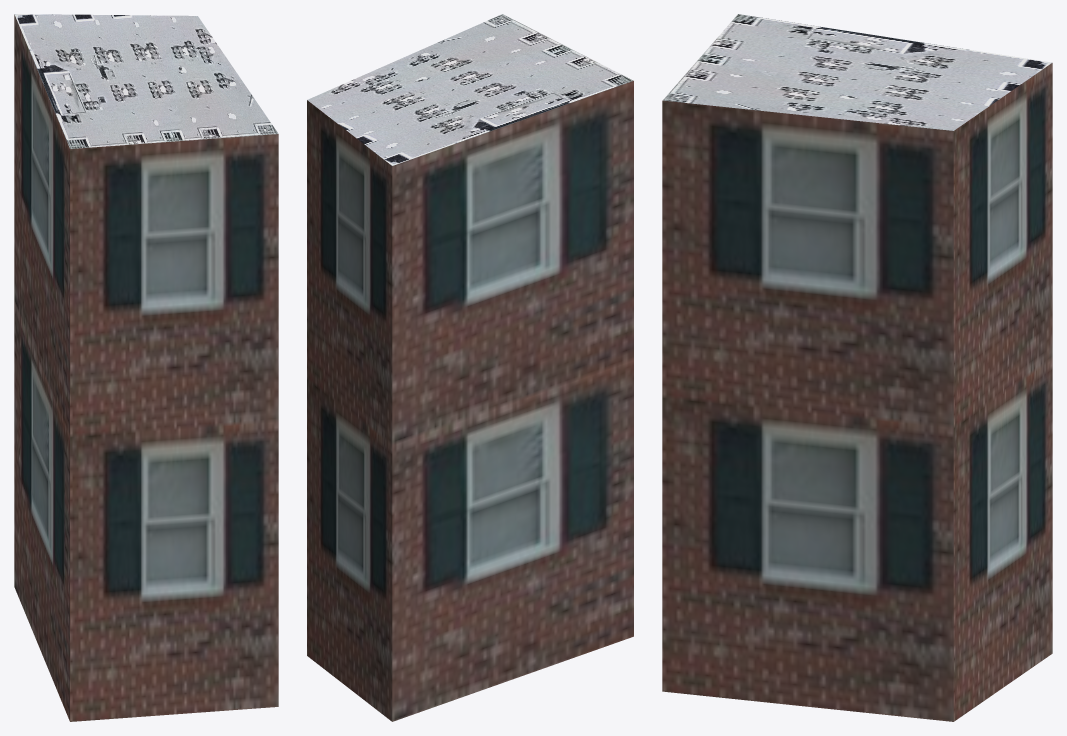
File: ResTex__612.fbx
3 renders of one model, left to right at view 1: azimuth 30°, elevation 25°; view 2: azimuth 150°, elevation 25°; view 3: azimuth 270°, elevation 25°, orthographic. The views are drawn at different scales.
Visible parts, largest first — view 1: CityEngineMaterial_14_m, CityEngineMaterial_m; view 2: CityEngineMaterial_14_m, CityEngineMaterial_m; view 3: CityEngineMaterial_14_m, CityEngineMaterial_m.
Boxes of the visible parts, bbox=[...] form: CityEngineMaterial_14_m: bbox=[14, 14, 278, 721]; CityEngineMaterial_m: bbox=[14, 14, 278, 148]; CityEngineMaterial_14_m: bbox=[307, 81, 633, 721]; CityEngineMaterial_m: bbox=[307, 14, 633, 165]; CityEngineMaterial_14_m: bbox=[662, 63, 1052, 721]; CityEngineMaterial_m: bbox=[662, 14, 1051, 130].
Bounding box in the file's own units: 2.55 × 6 × 3.59.
2 materials, 2 textured.
